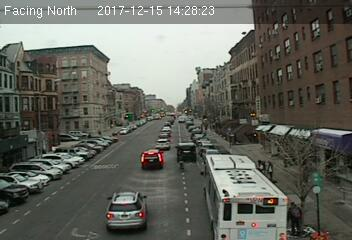bus: (202, 154, 289, 240)
car: (105, 190, 149, 231), (141, 149, 163, 168), (177, 143, 197, 162), (155, 138, 170, 150)
pedestrian: (266, 159, 276, 179)
